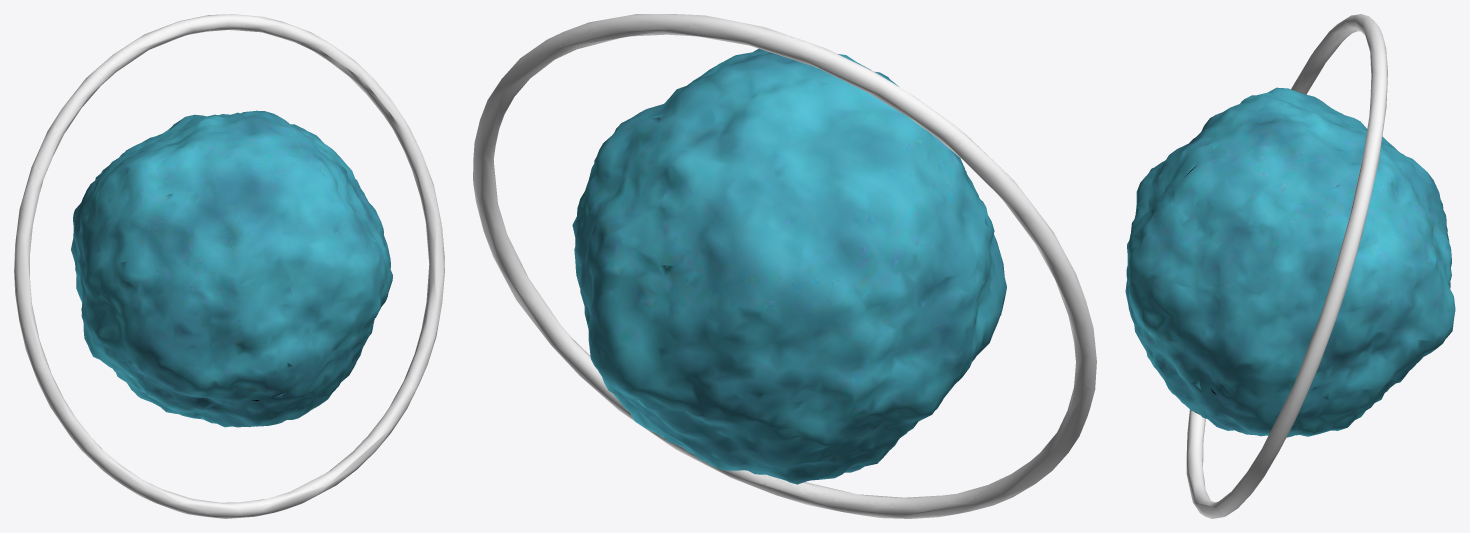
File: neural_core.glb
3 renders of one model, left to right at view 1: azimuth 30°, elevation 25°; view 2: azimuth 150°, elevation 25°; view 3: azimuth 270°, elevation 25°, orthographic. The views are drawn at different scales.
Parts seen in each view (by area): view 1: neural_core_low; view 2: neural_core_low; view 3: neural_core_low.
Part boxes in pixels (<box>): neural_core_low: <box>14,14,444,518</box>; neural_core_low: <box>473,14,1096,518</box>; neural_core_low: <box>1125,14,1455,518</box>.
Bounding box in the file's own units: 3.19 × 3 × 2.01.
1 material, 1 textured.
